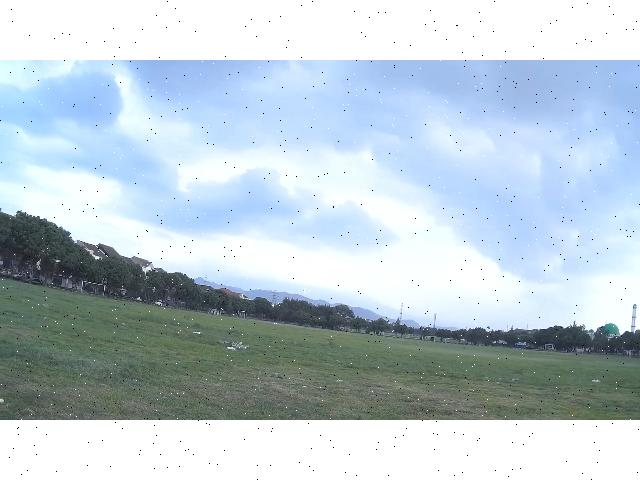Anti-Drone: (298, 285, 312, 303)
